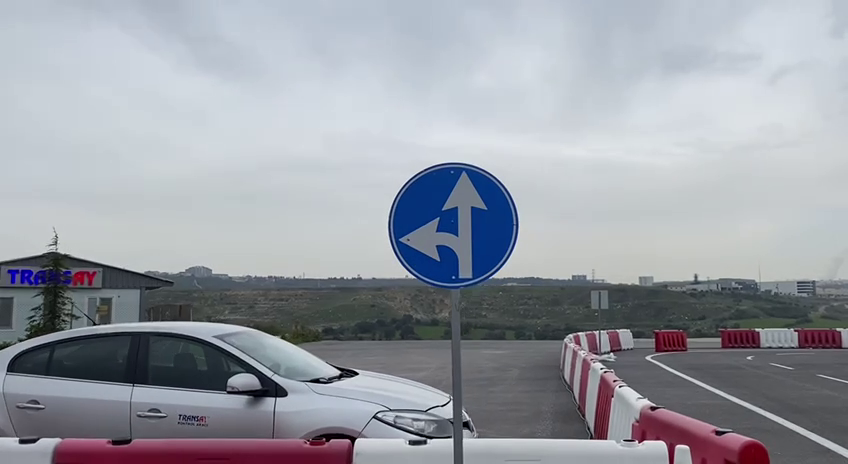forwardAndLeft: (386, 158, 521, 293)
